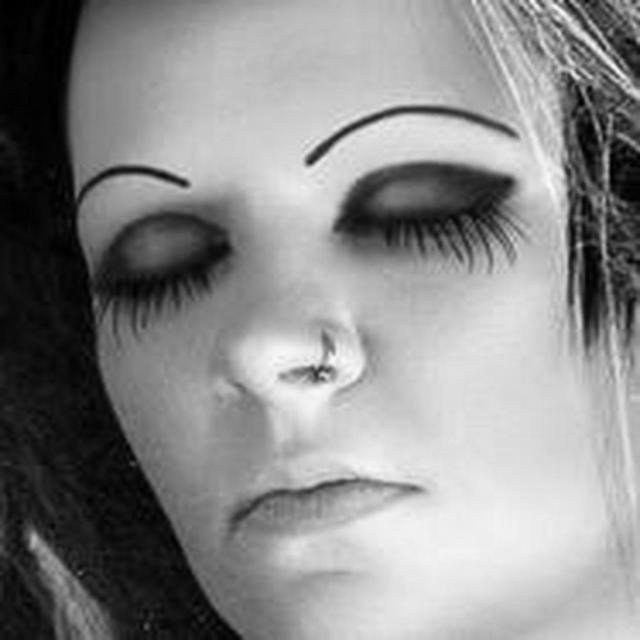real: (59, 0, 640, 640), (86, 136, 532, 342)
